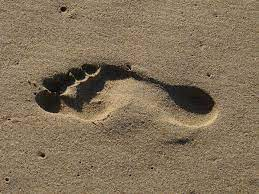human_foot_print: (36, 32, 218, 156)
